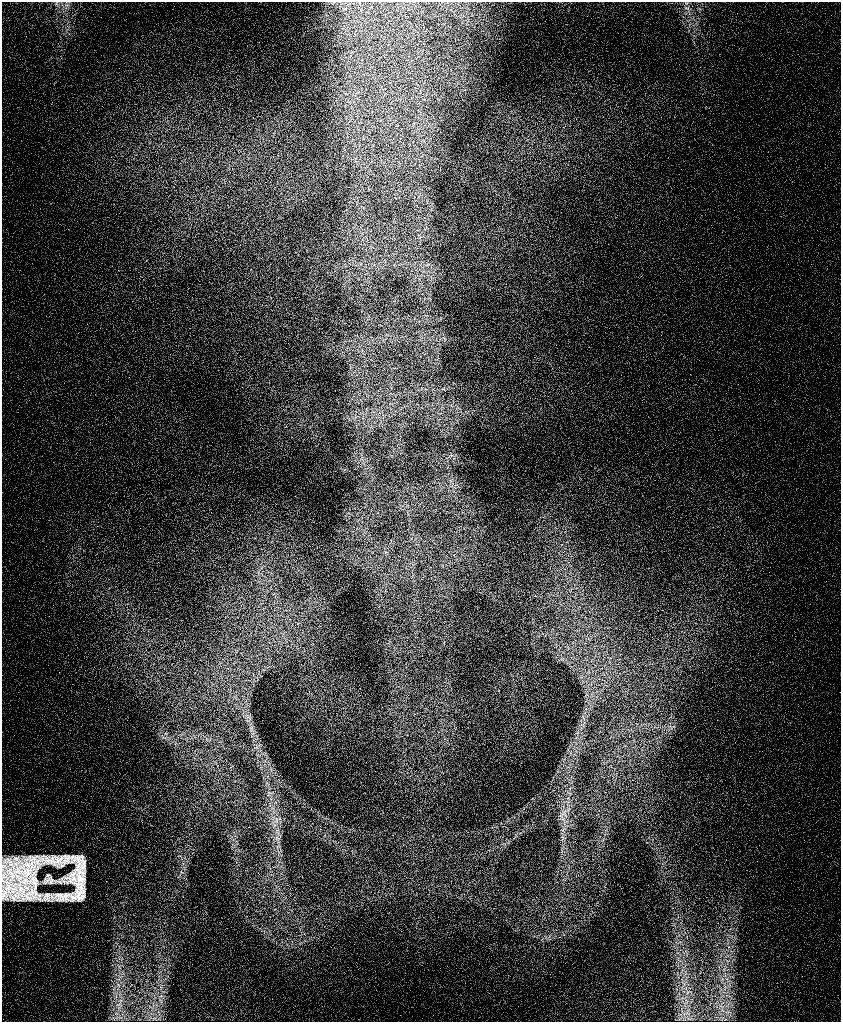lumbar scoliosis: (325, 44, 489, 578)
